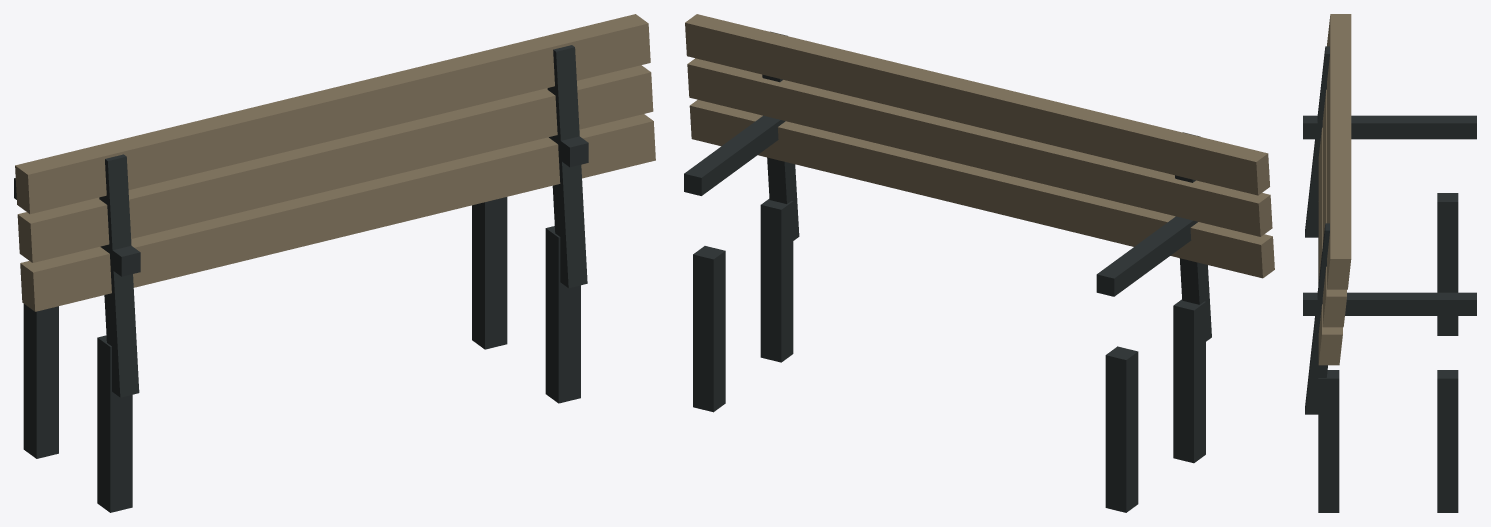
The model's file is SAF_BENCH_BROKEN_01.fbx.
3 renders of one model, left to right at view 1: azimuth 30°, elevation 25°; view 2: azimuth 150°, elevation 25°; view 3: azimuth 270°, elevation 25°, orthographic. The views are drawn at different scales.
Parts seen in each view (by area): view 1: SAF_BENCH_BROKEN_01; view 2: SAF_BENCH_BROKEN_01; view 3: SAF_BENCH_BROKEN_01.
Part boxes in pixels (x1,y1,x2,y2): SAF_BENCH_BROKEN_01: [14, 14, 655, 512]; SAF_BENCH_BROKEN_01: [684, 14, 1274, 512]; SAF_BENCH_BROKEN_01: [1303, 14, 1476, 512].
Size of the model in its own units: 180 by 97.25 by 54.
